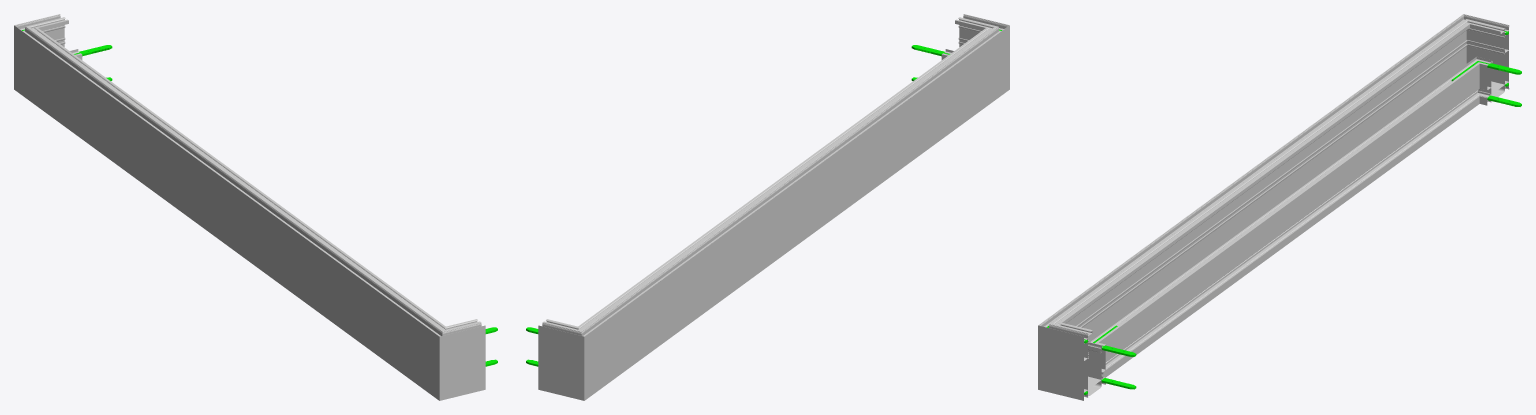
3 renders of one model, left to right at view 1: azimuth 30°, elevation 25°; view 2: azimuth 150°, elevation 25°; view 3: azimuth 330°, elevation 25°, orthographic.
Visible parts, largest first — view 1: 3DGeom-268, 3DGeom-276, 3DGeom-270; view 2: 3DGeom-268, 3DGeom-270, 3DGeom-276; view 3: 3DGeom-268, 3DGeom-276, 3DGeom-270.
Boxes of the visible parts, <box> form: 3DGeom-268: <box>40,41,427,381</box>; 3DGeom-276: <box>413,313,485,400</box>; 3DGeom-270: <box>14,14,82,108</box>; 3DGeom-268: <box>596,41,983,381</box>; 3DGeom-270: <box>538,313,610,400</box>; 3DGeom-276: <box>941,14,1009,108</box>; 3DGeom-268: <box>1065,33,1475,377</box>; 3DGeom-276: <box>1038,306,1105,400</box>; 3DGeom-270: <box>1437,14,1509,106</box>.
Size of the model in its own units: 0.2562 by 0.2032 by 2.44.
